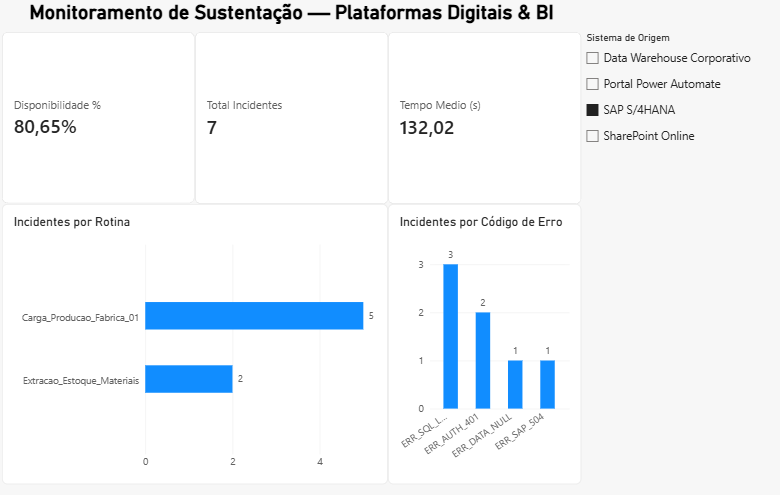

This screenshot's page, from the dashboard's own definition file:
{"tool":"powerbi","page":{"name":"Página 1","canvas":[1920,1080],"ordinal":0},"visuals":[{"type":"cardVisual","fields":{"Data":["dados_powerbi.Disponibilidade %"]},"box":[10.2,46.7,281.6,250.9],"z":0},{"type":"cardVisual","fields":{"Data":["dados_powerbi.Total Incidentes"]},"box":[291.8,46.7,282,251],"z":1000},{"type":"cardVisual","fields":{"Data":["dados_powerbi.Tempo Medio (s)"]},"box":[573.4,46.7,282,251],"z":2000},{"type":"clusteredBarChart","title":"Incidentes por Rotina","fields":{"Category":["dados_powerbi.nome_rotina"],"Y":["dados_powerbi.Total Incidentes"]},"box":[10.2,297.6,563.2,408.5],"z":3000},{"type":"clusteredColumnChart","title":"Incidentes por Código de Erro","fields":{"Category":["dados_powerbi.codigo_erro"],"Y":["dados_powerbi.Total Incidentes"]},"box":[573.4,297.6,281.6,408.5],"z":4000},{"type":"slicer","fields":{"Values":["dados_powerbi.nome_sistema"]},"box":[855,46.7,573.4,250.9],"z":4001},{"type":"textbox","box":[10.2,0,844.7,46.7],"z":4002}]}

Visuals, with their boxes on the page's 1920x1080 design canvas (x1, y1, x2, y2). These are canvas units, not pixel positions in the 780x495 screenshot, which may show the page scaled, cropped or inside an application window:
cardVisual - dados_powerbi.Disponibilidade %: left=10, top=47, right=292, bottom=298
cardVisual - dados_powerbi.Total Incidentes: left=292, top=47, right=574, bottom=298
cardVisual - dados_powerbi.Tempo Medio (s): left=573, top=47, right=855, bottom=298
"Incidentes por Rotina" clusteredBarChart: left=10, top=298, right=573, bottom=706
"Incidentes por Código de Erro" clusteredColumnChart: left=573, top=298, right=855, bottom=706
slicer - dados_powerbi.nome_sistema: left=855, top=47, right=1428, bottom=298
textbox: left=10, top=0, right=855, bottom=47
